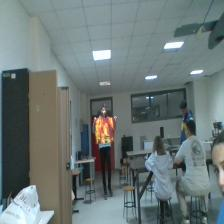fire-poster: (96, 117, 114, 144)
